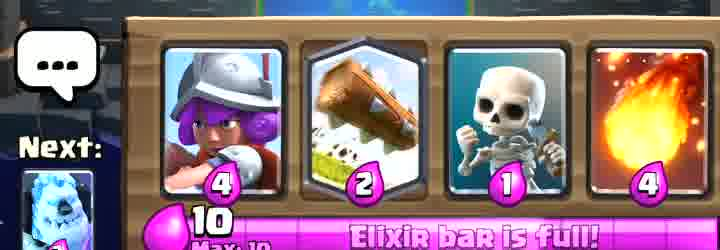fireball: (596, 47, 710, 193)
ice-golem: (24, 171, 93, 249)
log: (310, 44, 423, 194)
musketeer: (165, 47, 282, 203)
skeleton: (449, 58, 558, 200)
